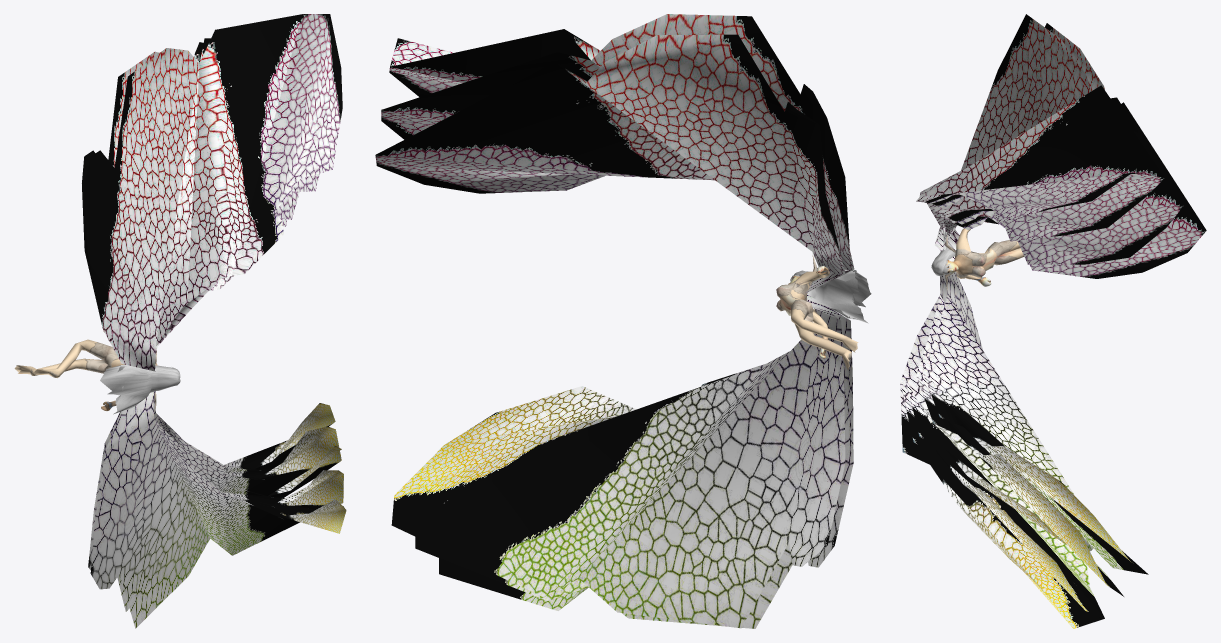
Rendered from angel_000220.obj.
3 views of the same model, side by side, from view 1: azimuth 30°, elevation 25°; view 2: azimuth 150°, elevation 25°; view 3: azimuth 270°, elevation 25° (orthographic). The views are drawn at different scales.
Parts seen in each view (by area): view 1: wings_Plane.001, hair.003_omino.013, body.001_omino.012; view 2: wings_Plane.001, body.001_omino.012, hair.003_omino.013; view 3: wings_Plane.001, body.001_omino.012, hair.003_omino.013.
Boxes of the visible parts, left/top/right/bottom form: wings_Plane.001: left=82, top=14, right=346, bottom=628; hair.003_omino.013: left=100, top=365, right=180, bottom=414; body.001_omino.012: left=14, top=331, right=157, bottom=410; wings_Plane.001: left=375, top=14, right=854, bottom=628; body.001_omino.012: left=776, top=253, right=858, bottom=370; hair.003_omino.013: left=790, top=269, right=871, bottom=323; wings_Plane.001: left=900, top=14, right=1206, bottom=628; body.001_omino.012: left=943, top=228, right=1024, bottom=289; hair.003_omino.013: left=931, top=229, right=955, bottom=275.
Bounding box in the file's own units: 6.77 × 9.82 × 5.23.
